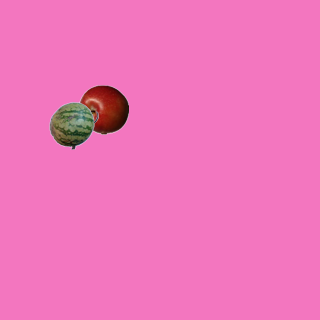Apple Braeburn: (78, 84, 128, 134)
Watermelon: (48, 100, 98, 150)
